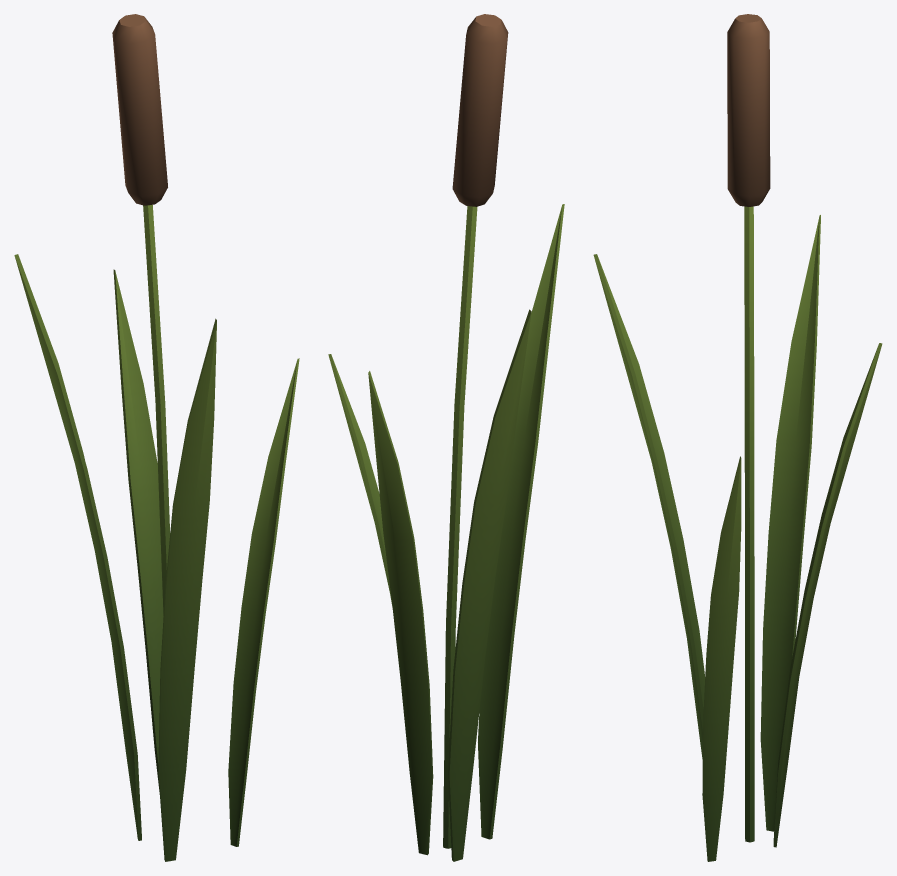
The model's file is PondPlant_06.fbx.
3 renders of one model, left to right at view 1: azimuth 30°, elevation 25°; view 2: azimuth 150°, elevation 25°; view 3: azimuth 270°, elevation 25°, orthographic. The views are drawn at different scales.
Visible parts, largest first — view 1: PondPlant_06_LOD0; view 2: PondPlant_06_LOD0; view 3: PondPlant_06_LOD0.
Part boxes in pixels (left/top/right/bottom): PondPlant_06_LOD0: left=14, top=14, right=299, bottom=861; PondPlant_06_LOD0: left=328, top=14, right=564, bottom=861; PondPlant_06_LOD0: left=593, top=14, right=882, bottom=861.
Size of what is drawn, in the model's own units: 0.2102 by 0.686 by 0.2233.
